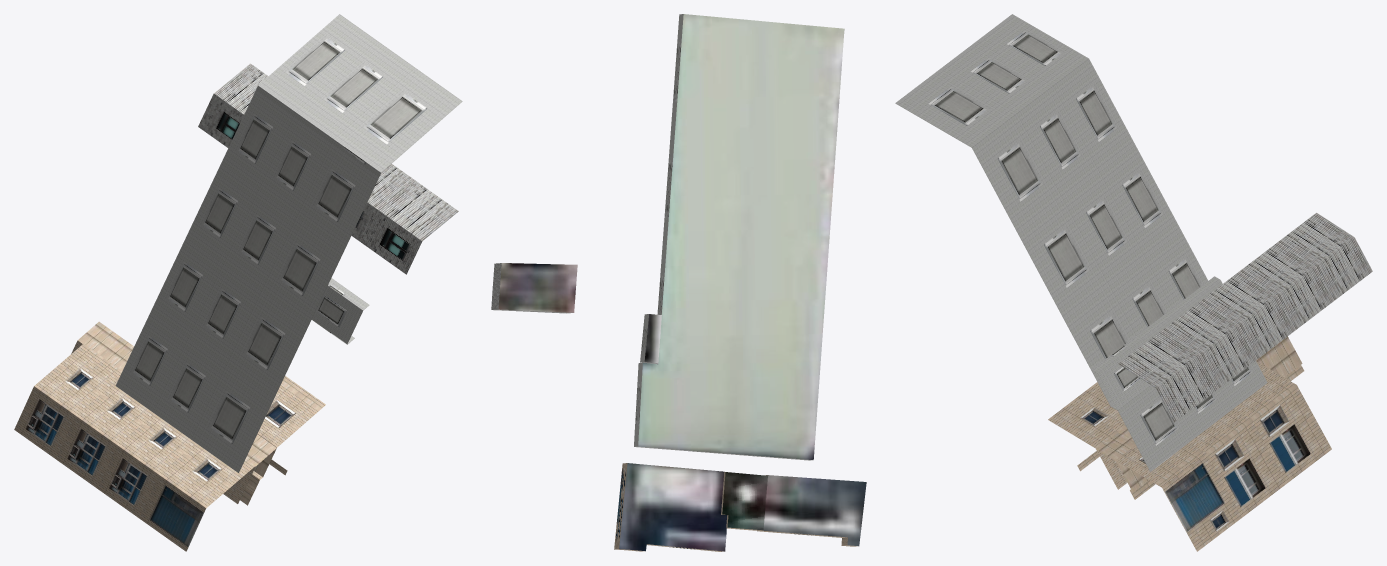
The picture shows the model from 3 angles, left to right: view 1: azimuth 30°, elevation 25°; view 2: azimuth 150°, elevation 25°; view 3: azimuth 270°, elevation 25°; orthographic projection. The views are drawn at different scales.
Bounding box in the file's own units: 25.93 × 30.53 × 27.01.
21 materials, 21 textured.
